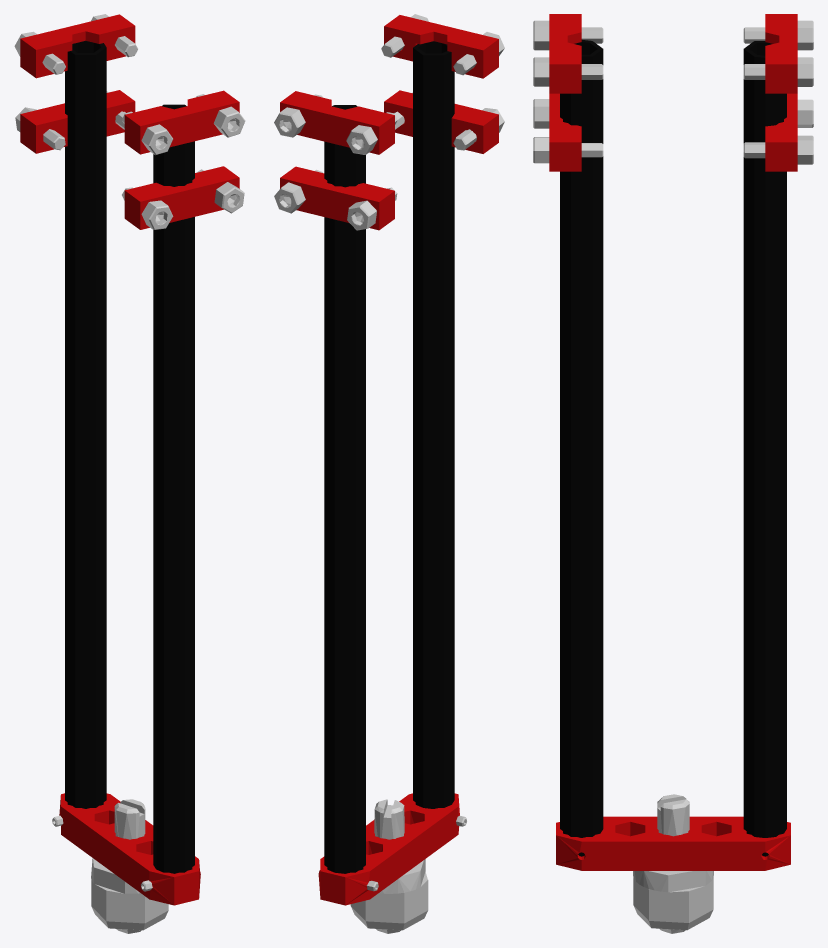
File: standard_legs.dae
The picture shows the model from 3 angles, left to right: view 1: azimuth 30°, elevation 25°; view 2: azimuth 150°, elevation 25°; view 3: azimuth 270°, elevation 25°; orthographic projection. The views are drawn at different scales.
Visible parts, largest first — view 1: Standard_Legs_Black, Standard_Legs_Red, Standard_Legs_Grey; view 2: Standard_Legs_Black, Standard_Legs_Red, Standard_Legs_Grey; view 3: Standard_Legs_Black, Standard_Legs_Red, Standard_Legs_Grey.
Boxes of the visible parts, <box> form: Standard_Legs_Black: <box>65,40,194,873</box>; Standard_Legs_Red: <box>20,14,239,905</box>; Standard_Legs_Grey: <box>14,14,245,933</box>; Standard_Legs_Black: <box>324,41,454,873</box>; Standard_Legs_Red: <box>280,15,498,905</box>; Standard_Legs_Grey: <box>274,14,504,933</box>; Standard_Legs_Black: <box>560,40,786,856</box>; Standard_Legs_Red: <box>549,14,797,870</box>; Standard_Legs_Grey: <box>533,20,813,933</box>.
Size of the model in its own units: 0.022 by 0.052 by 0.1825.
